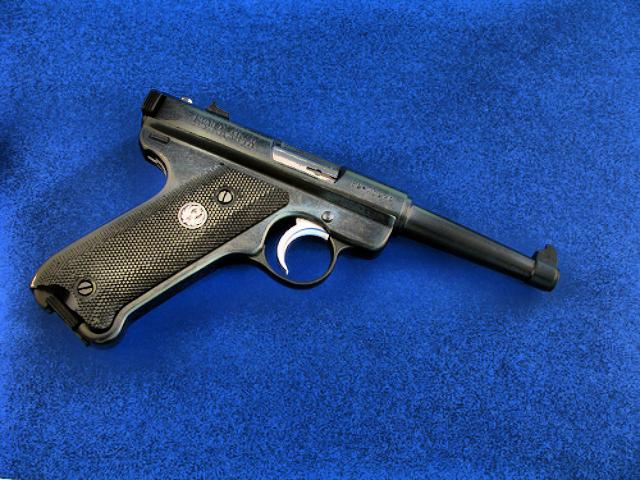pistol: (27, 84, 559, 352)
